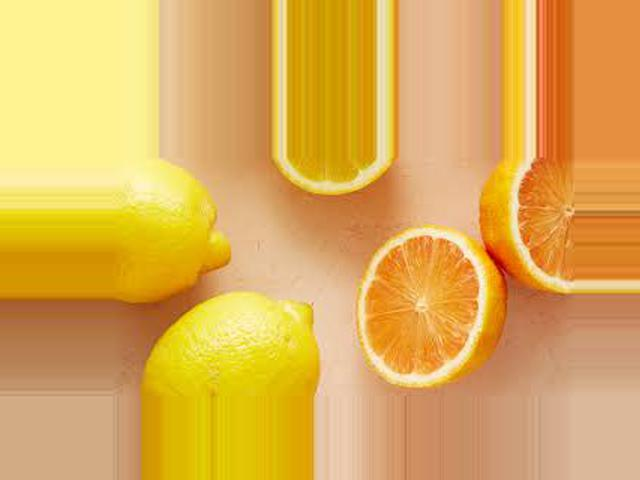lemon: (112, 162, 242, 306)
